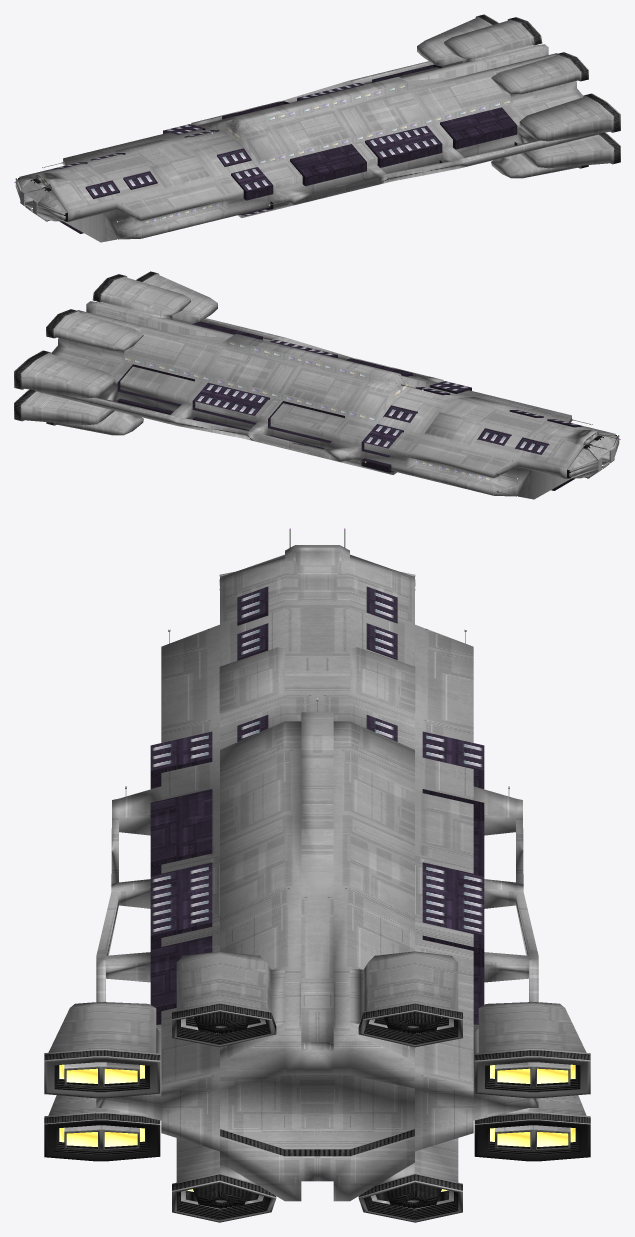
The model's file is star-freighter-detail.glb.
3 views of the same model, one above another, from view 1: azimuth 30°, elevation 25°; view 2: azimuth 150°, elevation 25°; view 3: azimuth 270°, elevation 25° (orthographic). The views are drawn at different scales.
Visible parts, largest first — view 1: star-freighter; view 2: star-freighter; view 3: star-freighter.
Boxes of the visible parts, x1,y1,x2,y2 form: star-freighter: (14, 14, 620, 242); star-freighter: (14, 271, 620, 499); star-freighter: (44, 528, 590, 1222).
Bounding box in the file's own units: 80 × 15.22 × 35.6.
12 materials, 8 textured.
